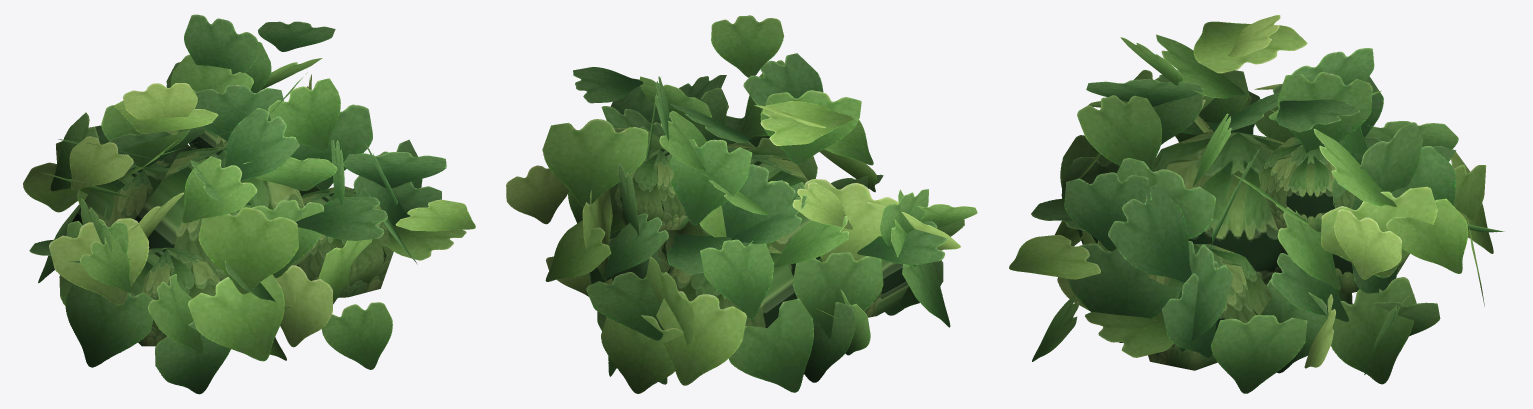
File: shrub-a.glb
The picture shows the model from 3 angles, left to right: view 1: azimuth 30°, elevation 25°; view 2: azimuth 150°, elevation 25°; view 3: azimuth 270°, elevation 25°; orthographic projection. The views are drawn at different scales.
Visible parts, largest first — view 1: Leaves; view 2: Leaves; view 3: Leaves.
Part boxes in pixels (box(x1,y1,x2,y2)): Leaves: box(23, 14, 475, 394); Leaves: box(506, 15, 977, 393); Leaves: box(1009, 15, 1504, 393).
Size of the model in its own units: 1.46 by 1 by 1.41.
2 materials, 1 textured.
